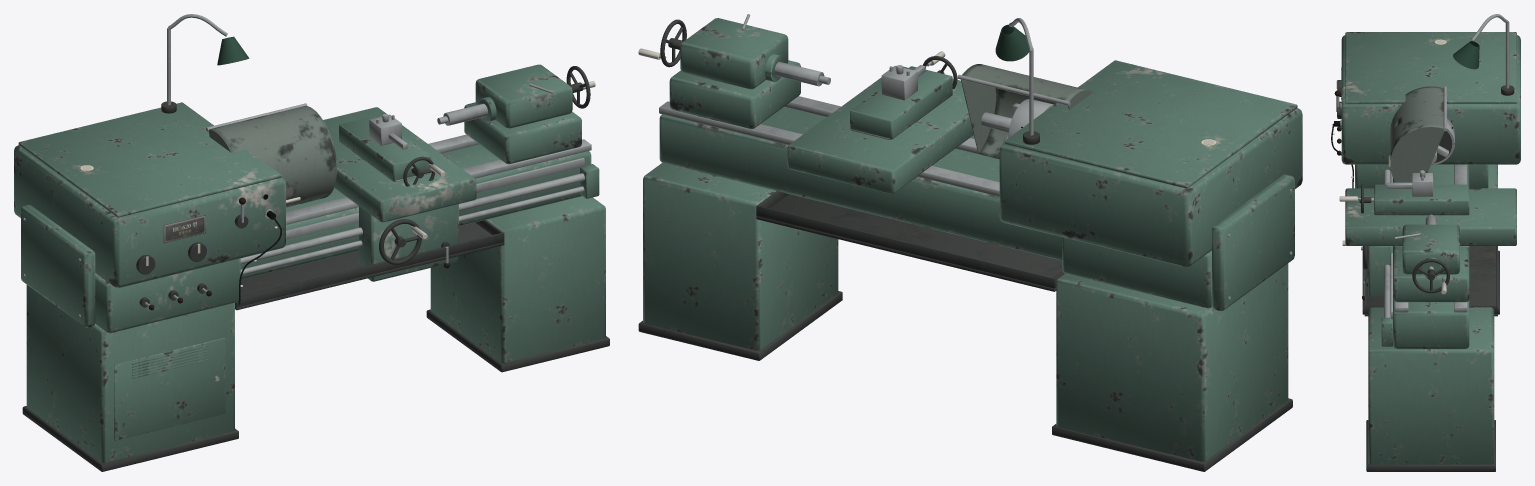
Rendered from LSB_ENV_MCH_Lathe_LT01_v04.fbx.
3 views of the same model, side by side, from view 1: azimuth 30°, elevation 25°; view 2: azimuth 150°, elevation 25°; view 3: azimuth 270°, elevation 25° (orthographic). The views are drawn at different scales.
Visible parts, largest first — view 1: Legs, Headstock, Bed, Tailstock, Carriage, Guard, ChangeGearCover, ChipTray, Apron, CrossSlide, Leadscrew, FeedRod (+4 smaller); view 2: Legs, Headstock, Bed, Tailstock, Carriage, ChipTray, ChangeGearCover, Guard, CrossSlide, WorkLamp, Spindle, ToolPost (+1 smaller); view 3: Headstock, Legs, Carriage, Tailstock, Bed, Guard, CrossSlide, ChipTray, WorkLamp, Apron, ToolPost, Tailstock_Handwheel (+4 smaller).
Boxes of the visible parts, x1,y1,x2,y2 form: Legs: [22, 196, 609, 471]; Headstock: [14, 102, 285, 333]; Bed: [240, 134, 591, 279]; Tailstock: [437, 64, 581, 164]; Carriage: [323, 107, 476, 222]; Guard: [206, 103, 336, 207]; ChangeGearCover: [21, 205, 95, 327]; ChipTray: [235, 220, 504, 310]; Apron: [359, 204, 458, 281]; CrossSlide: [339, 116, 431, 181]; Leadscrew: [240, 173, 584, 264]; FeedRod: [240, 186, 584, 274]; Legs: [638, 163, 1292, 471]; Headstock: [999, 60, 1302, 308]; Bed: [659, 96, 1062, 260]; Tailstock: [669, 14, 830, 129]; Carriage: [787, 66, 973, 193]; ChipTray: [756, 191, 1064, 291]; ChangeGearCover: [1212, 174, 1294, 311]; Guard: [957, 64, 1093, 158]; CrossSlide: [850, 66, 952, 139]; WorkLamp: [995, 18, 1039, 144]; Spindle: [981, 99, 1053, 143]; ToolPost: [881, 65, 925, 100]; Headstock: [1334, 32, 1520, 188]; Legs: [1361, 164, 1499, 471]; Carriage: [1345, 188, 1516, 245]; Tailstock: [1393, 214, 1469, 302]; Bed: [1390, 164, 1469, 349]; Guard: [1388, 86, 1446, 182]; CrossSlide: [1374, 184, 1469, 215]; ChipTray: [1364, 246, 1497, 316]; WorkLamp: [1453, 14, 1514, 95]; Apron: [1362, 246, 1392, 300]; ToolPost: [1387, 170, 1433, 196]; Tailstock_Handwheel: [1412, 258, 1449, 294].
Bounding box in the file's own units: 2.87 × 1.81 × 0.9952.
